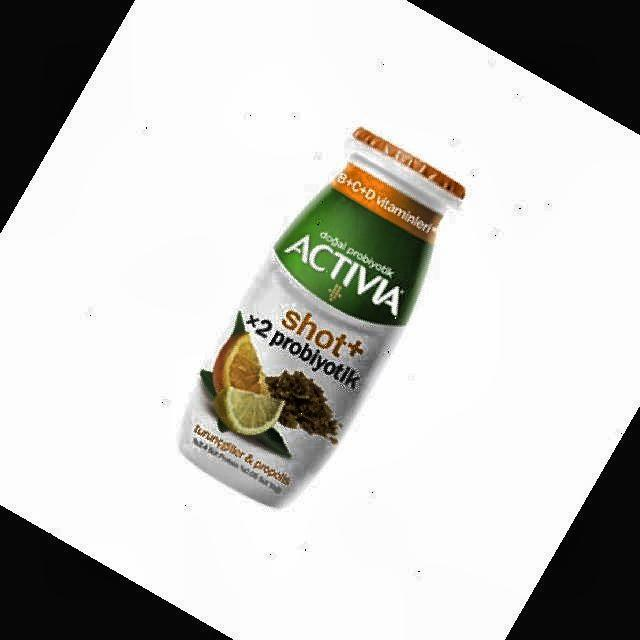plastic: (180, 128, 465, 506)
